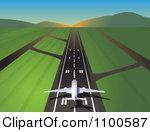aeroplane: (41, 77, 109, 107)
